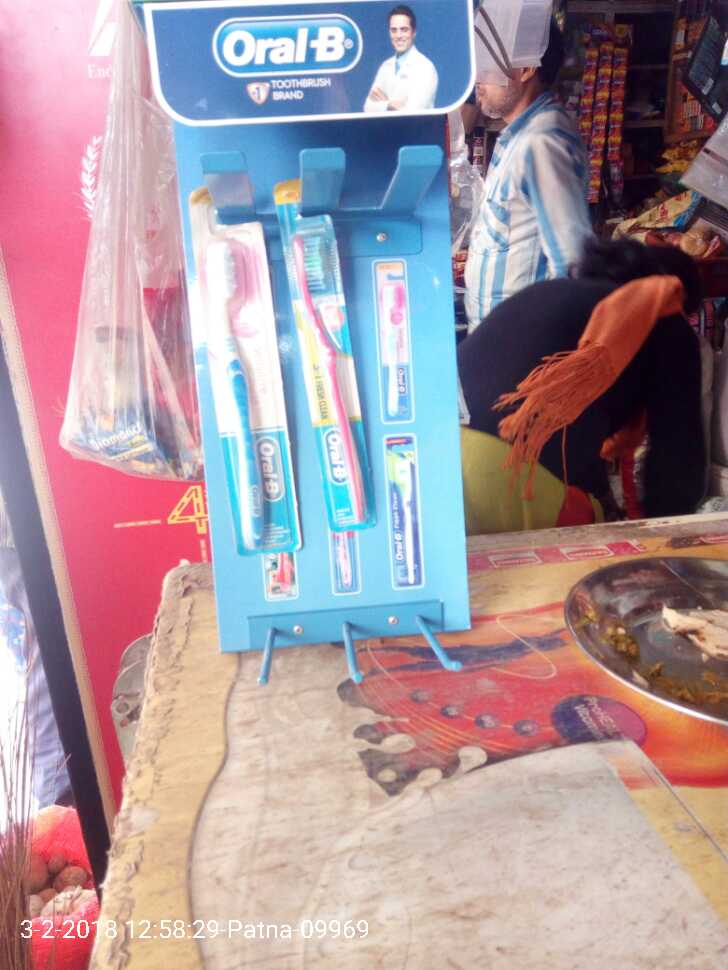oralb: (295, 220, 379, 545), (201, 218, 275, 570)
